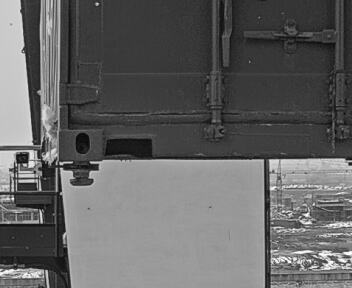twist_lock_1: (57, 156, 103, 194)
